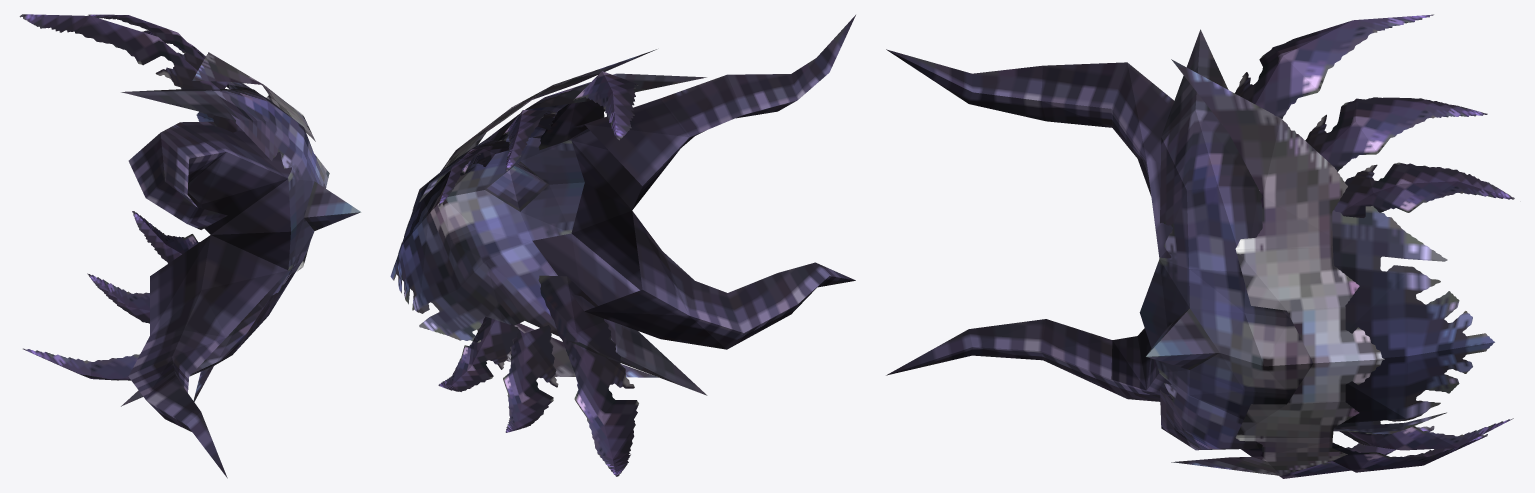
Rendered from common_helmet_57530.obj.
3 views of the same model, side by side, from view 1: azimuth 30°, elevation 25°; view 2: azimuth 150°, elevation 25°; view 3: azimuth 270°, elevation 25° (orthographic). The views are drawn at different scales.
Parts seen in each view (by area): view 1: common_helmet_57530; view 2: common_helmet_57530; view 3: common_helmet_57530.
Boxes of the visible parts, x1,y1,x2,y2 form: common_helmet_57530: (19,14,361,478); common_helmet_57530: (390,15,855,476); common_helmet_57530: (886,14,1514,478).
Size of the model in its own units: 4.68 by 6.09 by 7.79.
1 material, 1 textured.
